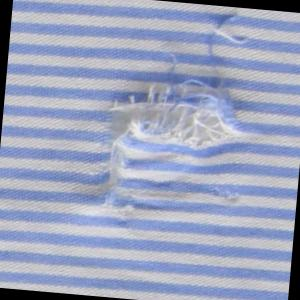Damage: (80, 1, 276, 246)
